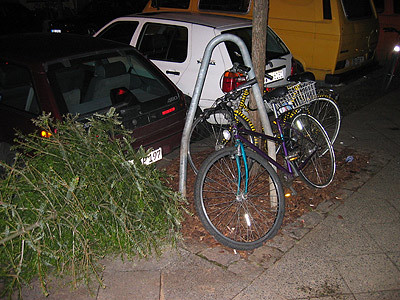bicicle: (193, 108, 347, 254), (191, 67, 350, 150)
car: (1, 37, 192, 169), (99, 13, 292, 119)
vegetation: (3, 126, 184, 277)
